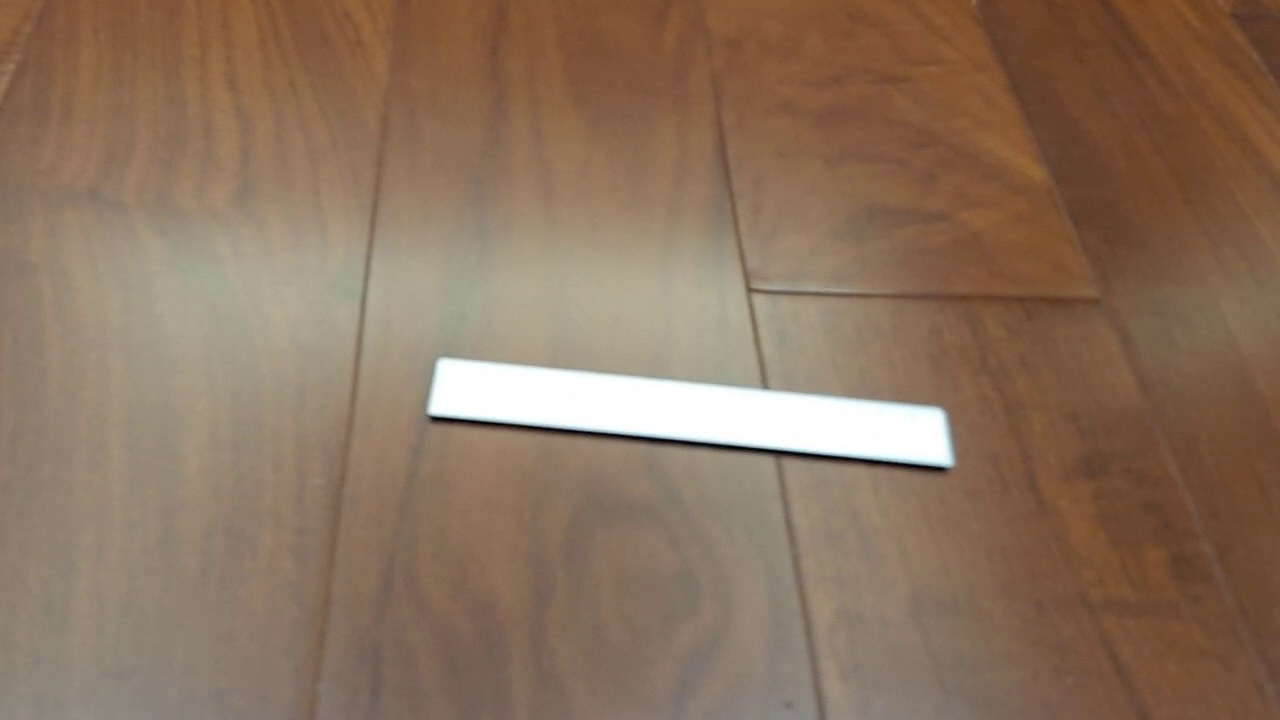ruler: (424, 354, 956, 473)
